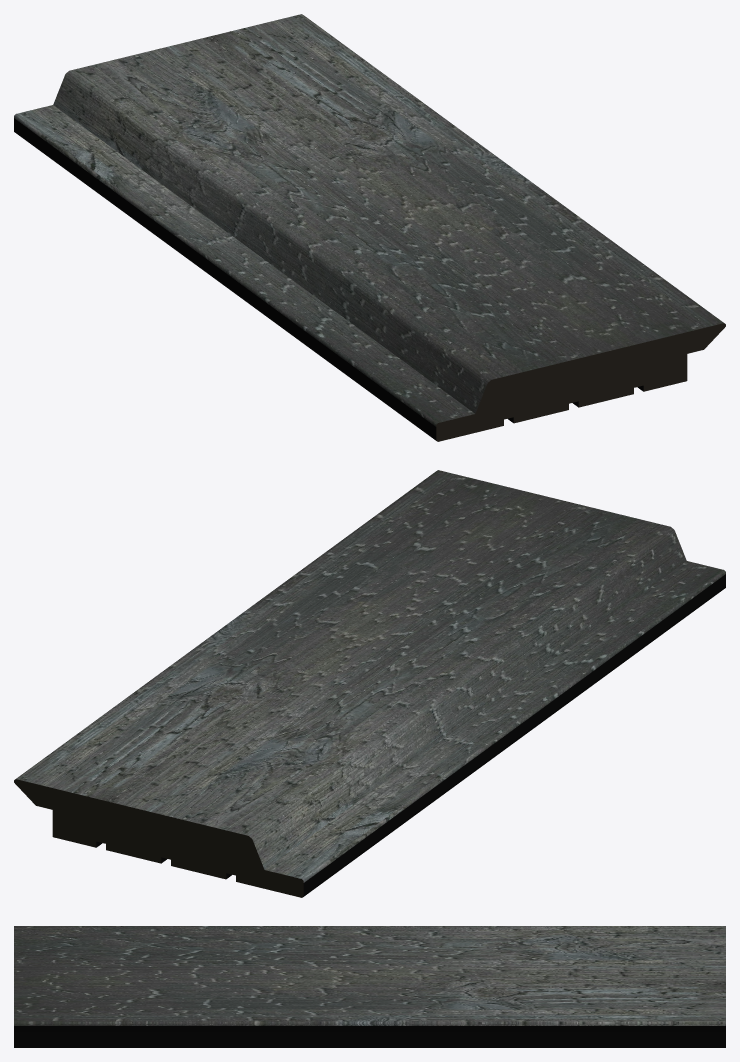
File: thermo-facade-half-tongue-45-carbon-light.glb
3 renders of one model, top to bottom at view 1: azimuth 30°, elevation 25°; view 2: azimuth 150°, elevation 25°; view 3: azimuth 270°, elevation 25°, orthographic. The views are drawn at different scales.
Parts seen in each view (by area): view 1: Pusė_Špunto_45; view 2: Pusė_Špunto_45; view 3: Pusė_Špunto_45.
Part boxes in pixels (<box>): Pusė_Špunto_45: <box>14,14,725,441</box>; Pusė_Špunto_45: <box>14,470,725,897</box>; Pusė_Špunto_45: <box>14,926,725,1047</box>.
Bounding box in the file's own units: 0.0723 × 0.0117 × 0.1826.
3 materials, 1 textured.
